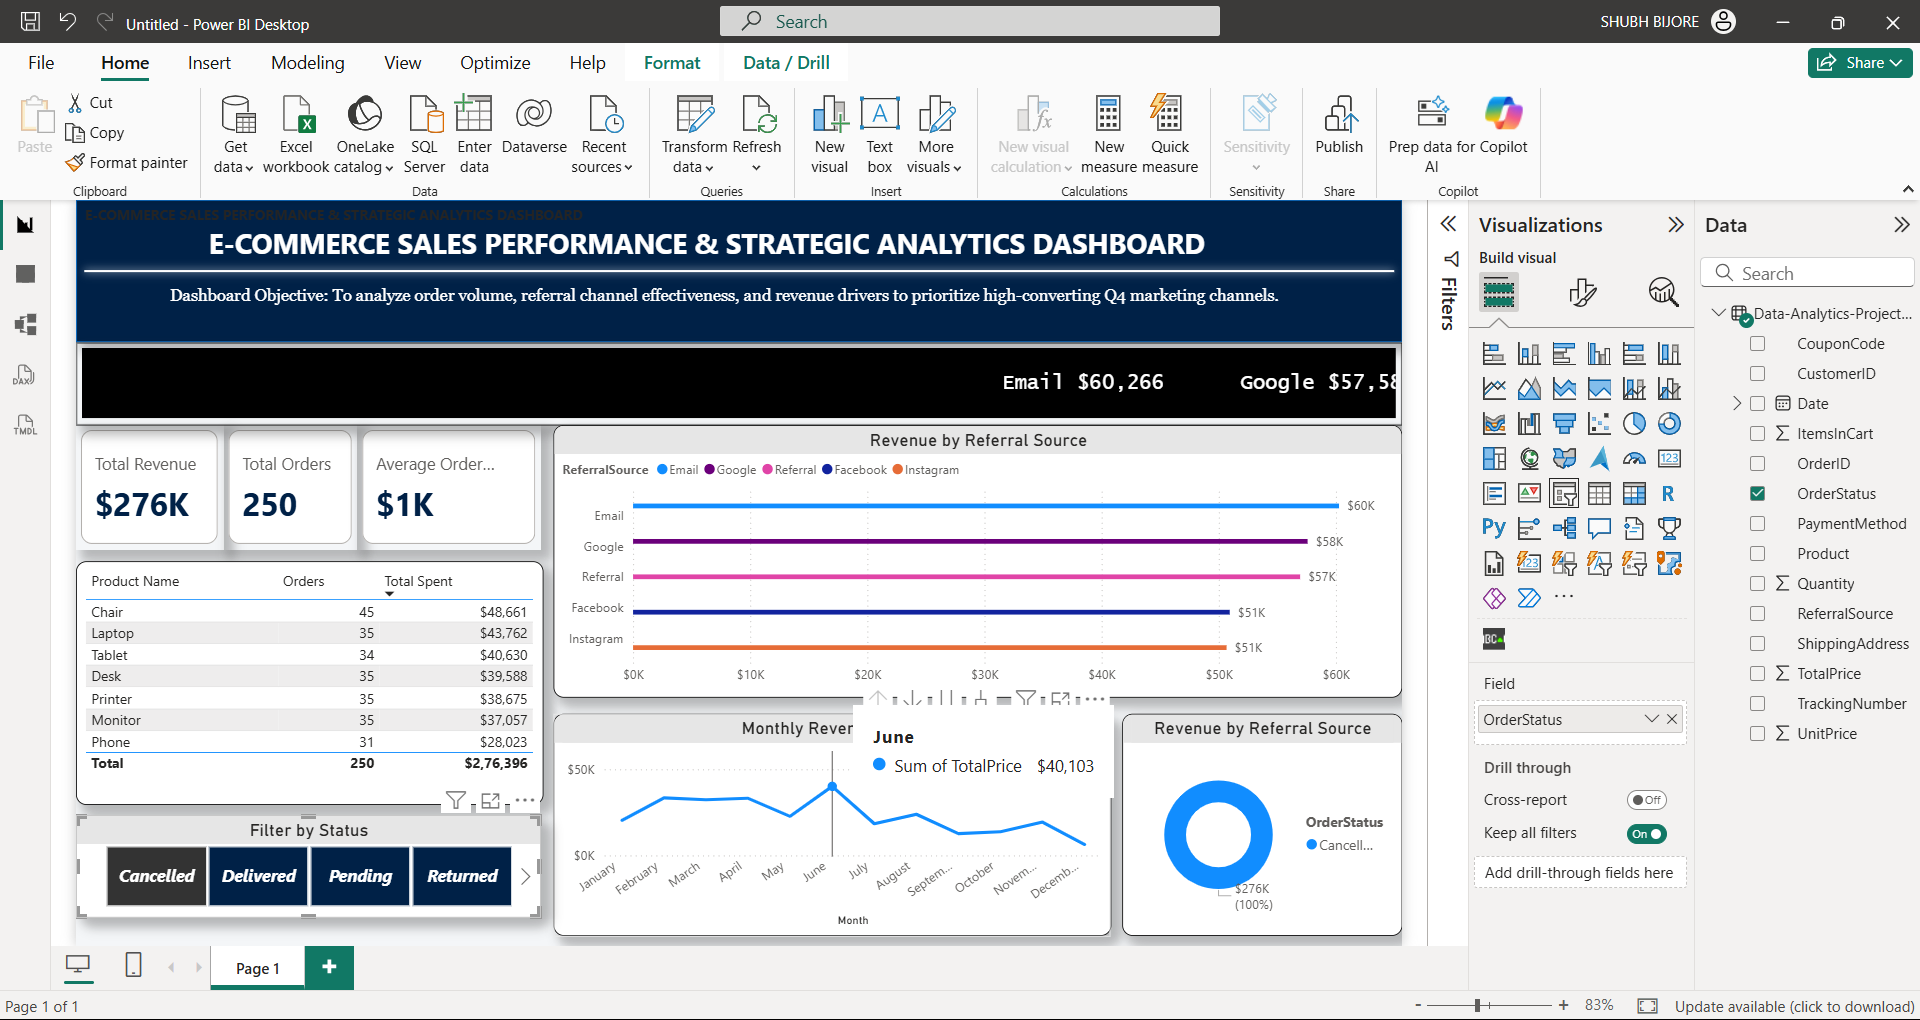

The page's visual inventory and layout, read from the dashboard file:
{"tool":"powerbi","page":{"name":"Page 1","canvas":[1280,720],"ordinal":0},"visuals":[{"type":"shape","box":[0,0,1280.3,137.2],"z":0},{"type":"textbox","box":[0,0,1280.3,56.3],"z":1000},{"type":"textbox","box":[115.3,17.8,1025,48],"z":2000},{"type":"textbox","box":[85.1,78.2,1141.7,59],"z":3000},{"type":"shape","box":[0,0,1280.3,137.2],"z":4000},{"type":"cardVisual","fields":{"Data":["Sum(Data-Analytics-Project-2_Decode_labs.TotalPrice)"]},"box":[0,217.2,142.4,120.6],"z":5000},{"type":"cardVisual","fields":{"Data":["Count(Data-Analytics-Project-2_Decode_labs.OrderID)"]},"box":[142.4,217.2,129.1,120.6],"z":6000},{"type":"cardVisual","fields":{"Data":["Avg(Data-Analytics-Project-2_Decode_labs.TotalPrice)"]},"box":[271.4,217.2,177.3,120.6],"z":7000},{"type":"ScrollingTextVisual1448795304508","fields":{"Category":["Data-Analytics-Project-2_Decode_labs.ReferralSource"],"Measure Absolute":["Sum(Data-Analytics-Project-2_Decode_labs.TotalPrice)"]},"box":[0,137.5,1280,79.6],"z":8000},{"type":"tableEx","fields":{"Values":["Data-Analytics-Project-2_Decode_labs.Product","Data-Analytics-Project-2_Decode_labs.OrderID","Sum(Data-Analytics-Project-2_Decode_labs.TotalPrice)"]},"box":[0,348.7,451.2,235.3],"z":9000},{"type":"clusteredBarChart","title":"Revenue by Referral Source","fields":{"Category":["Data-Analytics-Project-2_Decode_labs.ReferralSource"],"Y":["Sum(Data-Analytics-Project-2_Decode_labs.TotalPrice)"],"Series":["Data-Analytics-Project-2_Decode_labs.ReferralSource"]},"box":[460.9,217.2,819.2,263],"z":10000},{"type":"areaChart","title":"Monthly Revenue Trend","fields":{"Category":["Data-Analytics-Project-2_Decode_labs.Date.Variation.Date Hierarchy.Month","Data-Analytics-Project-2_Decode_labs.Date.Variation.Date Hierarchy.Day"],"Y":["Sum(Data-Analytics-Project-2_Decode_labs.TotalPrice)"]},"box":[460.9,495.8,538.1,214.7],"z":11000},{"type":"donutChart","title":"Revenue by Referral Source","fields":{"Category":["Data-Analytics-Project-2_Decode_labs.OrderStatus","Data-Analytics-Project-2_Decode_labs.PaymentMethod"],"Y":["Sum(Data-Analytics-Project-2_Decode_labs.TotalPrice)"]},"box":[1009.8,495.8,270.2,214.7],"z":12000},{"type":"slicer","title":"Filter by Status","fields":{"Values":["Data-Analytics-Project-2_Decode_labs.OrderStatus"]},"box":[0,593.6,448.8,98.9],"z":12001}]}

Visuals, with their boxes on the page's 1280x720 design canvas (x1, y1, x2, y2). These are canvas units, not pixel positions in the 1920x1020 screenshot, which may show the page scaled, cropped or inside an application window:
shape: l=0, t=0, r=1280, b=137
textbox: l=0, t=0, r=1280, b=56
textbox: l=115, t=18, r=1140, b=66
textbox: l=85, t=78, r=1227, b=137
shape: l=0, t=0, r=1280, b=137
cardVisual - Sum(Data-Analytics-Project-2_Decode_labs.TotalPrice): l=0, t=217, r=142, b=338
cardVisual - Count(Data-Analytics-Project-2_Decode_labs.OrderID): l=142, t=217, r=272, b=338
cardVisual - Avg(Data-Analytics-Project-2_Decode_labs.TotalPrice): l=271, t=217, r=449, b=338
ScrollingTextVisual1448795304508 - Data-Analytics-Project-2_Decode_labs.ReferralSource x Sum(Data-Analytics-Project-2_Decode_labs.TotalPrice): l=0, t=138, r=1280, b=217
tableEx - Data-Analytics-Project-2_Decode_labs.Product x Data-Analytics-Project-2_Decode_labs.OrderID: l=0, t=349, r=451, b=584
"Revenue by Referral Source" clusteredBarChart: l=461, t=217, r=1280, b=480
"Monthly Revenue Trend" areaChart: l=461, t=496, r=999, b=710
"Revenue by Referral Source" donutChart: l=1010, t=496, r=1280, b=710
"Filter by Status" slicer: l=0, t=594, r=449, b=692
